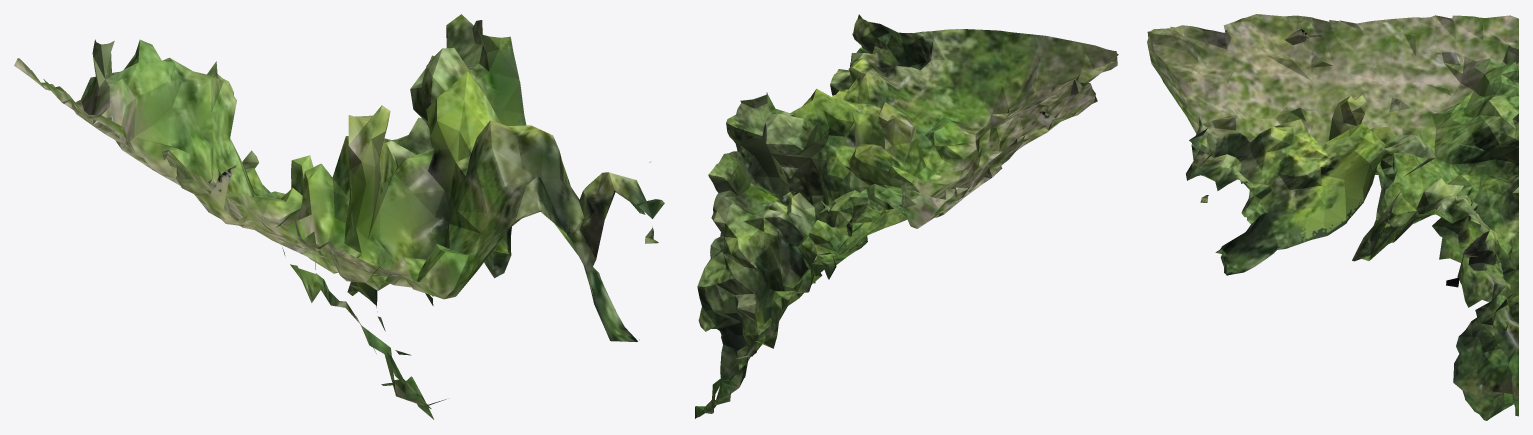
3 renders of one model, left to right at view 1: azimuth 30°, elevation 25°; view 2: azimuth 150°, elevation 25°; view 3: azimuth 270°, elevation 25°, orthographic. The views are drawn at different scales.
Size of the model in its own units: 36.32 by 37.51 by 45.1.
Materials: 3 (3 with a texture image).
